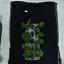leaf: (28, 48, 32, 58), (21, 22, 27, 28), (27, 18, 31, 27), (22, 36, 28, 42), (22, 44, 28, 50), (37, 22, 44, 27), (37, 39, 44, 44), (24, 50, 28, 58), (38, 32, 44, 37), (38, 52, 44, 57), (22, 32, 27, 36), (34, 51, 38, 56), (28, 45, 32, 49), (28, 37, 32, 41), (38, 48, 42, 52), (36, 26, 38, 32), (35, 40, 37, 46), (33, 47, 37, 50)
